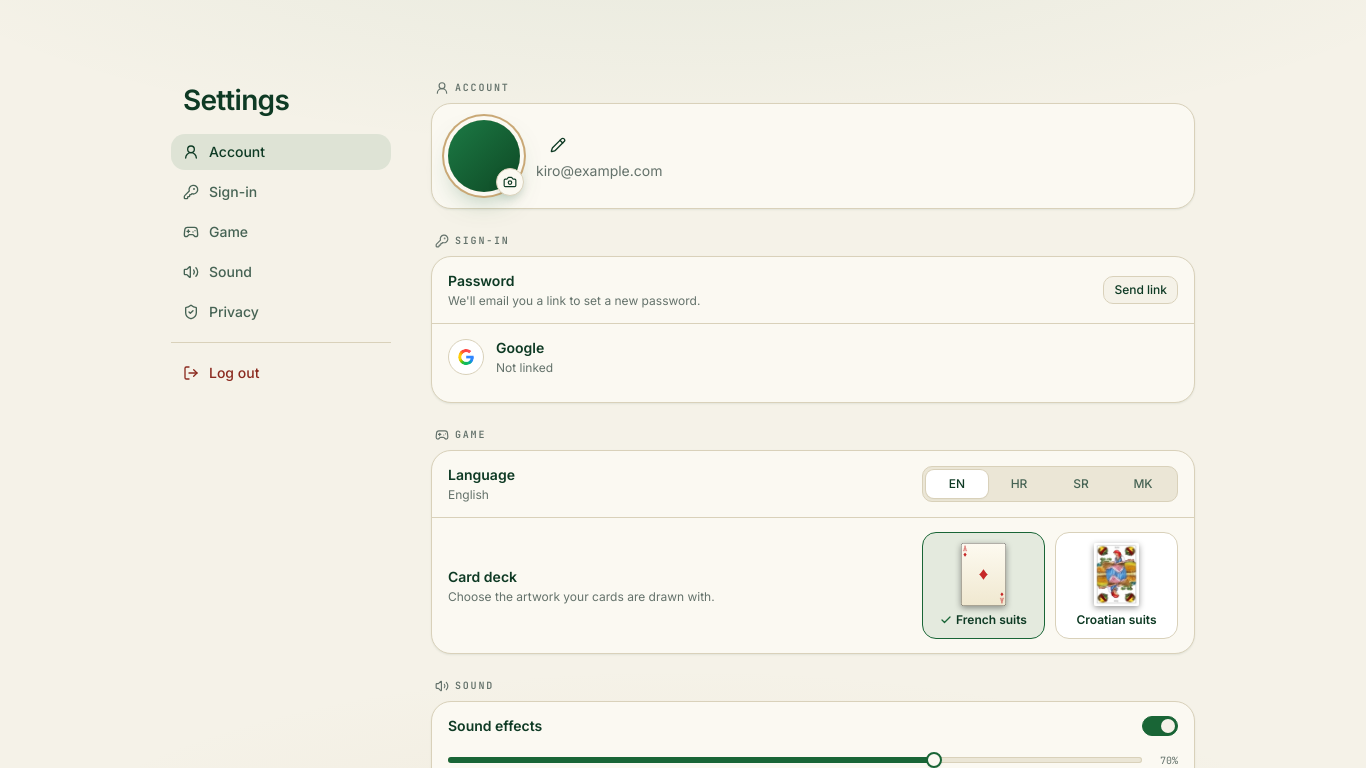
it: SettingsPage › emails a password link to the signed-in address and says where it went
Click the button with test id "settings-password-send" at (1141, 290), box [1103,276,1178,304]
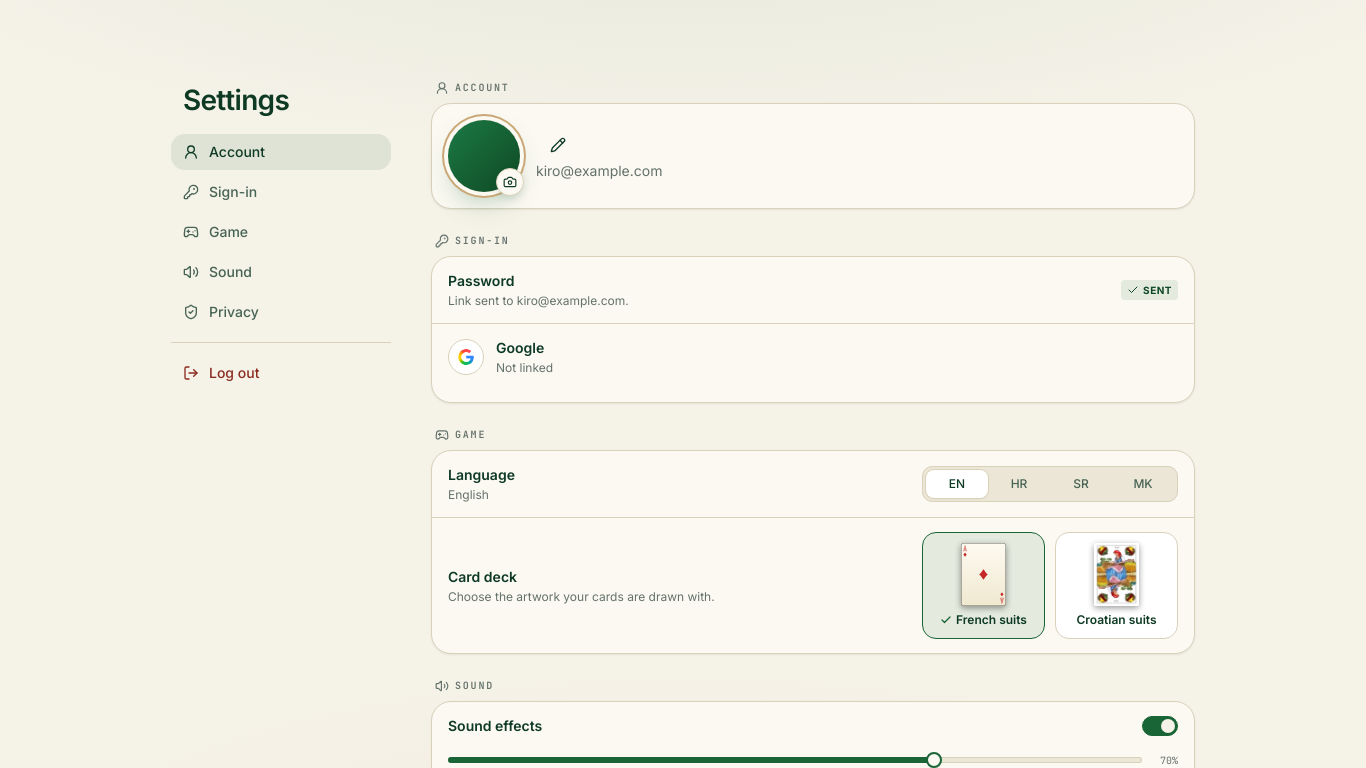
Now the element with test id "settings-password" shows "Link sent to kiro@example.com.", box [448,293,629,308]
Now the button with test id "settings-password-send" is gone
